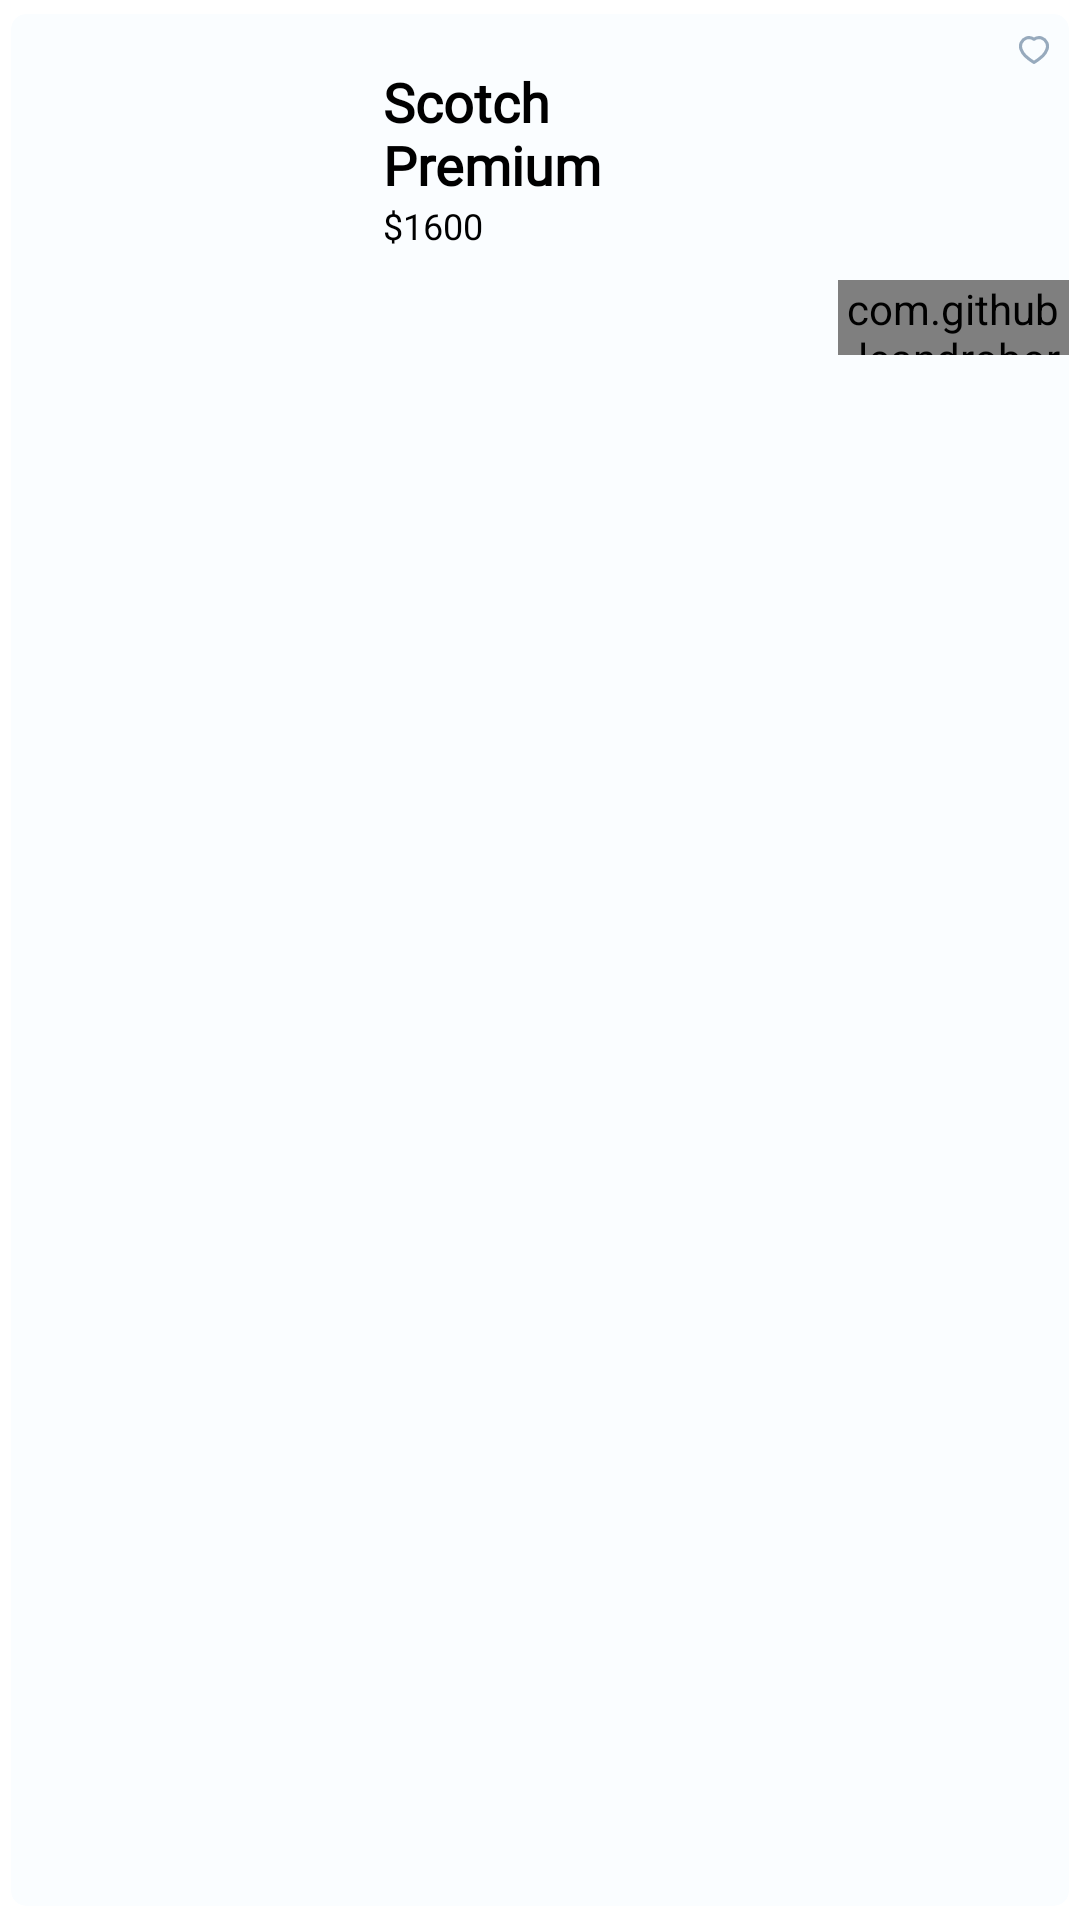

Named icons in this screenshot (1080×1920) and their centers, (x,y):
favorite: (1034,50)
